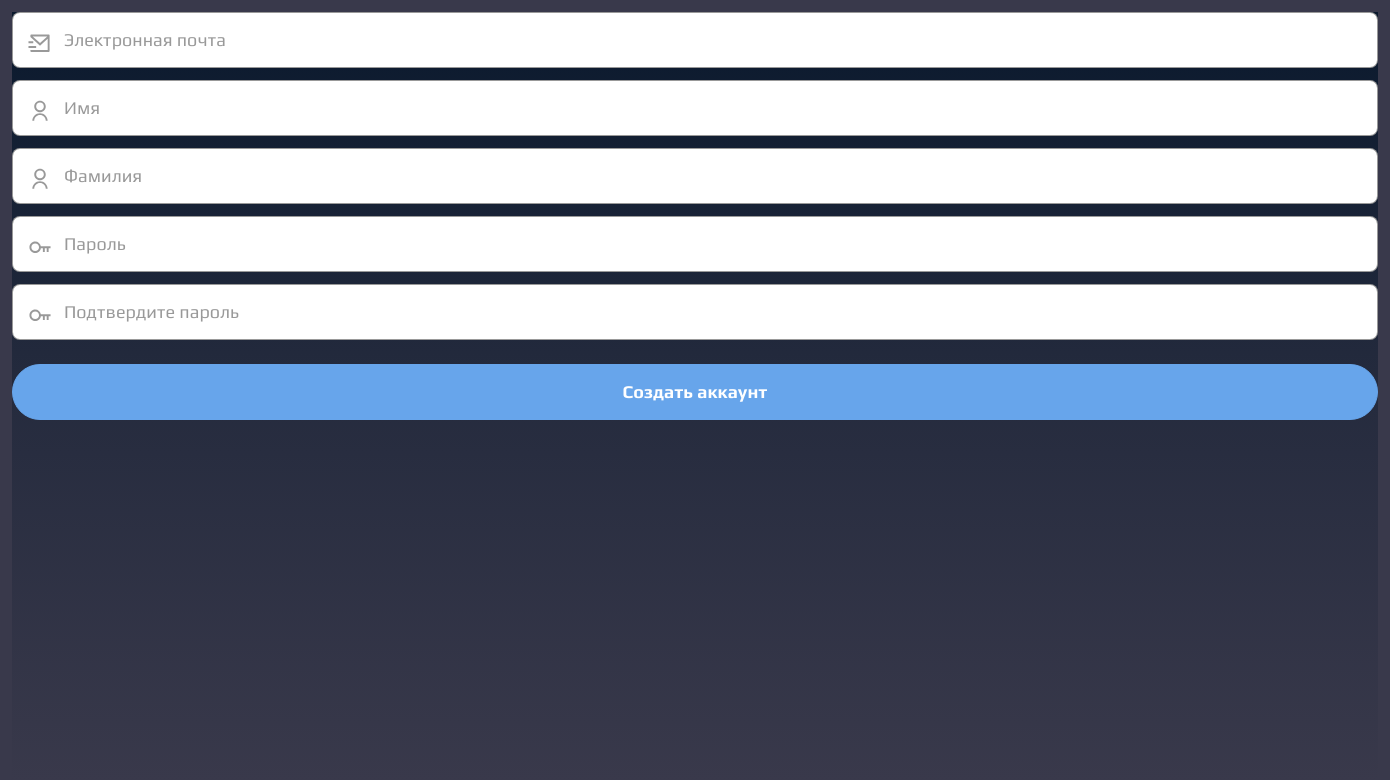
Scenario: RegisterForm › Отображение ошибки при вводе некорректного email
The width and height of the screenshot is (1390, 780).
Step 1. Type "invalid-email" into the field with placeholder "Электронная почта" → (695, 40), box [12, 12, 1378, 68]
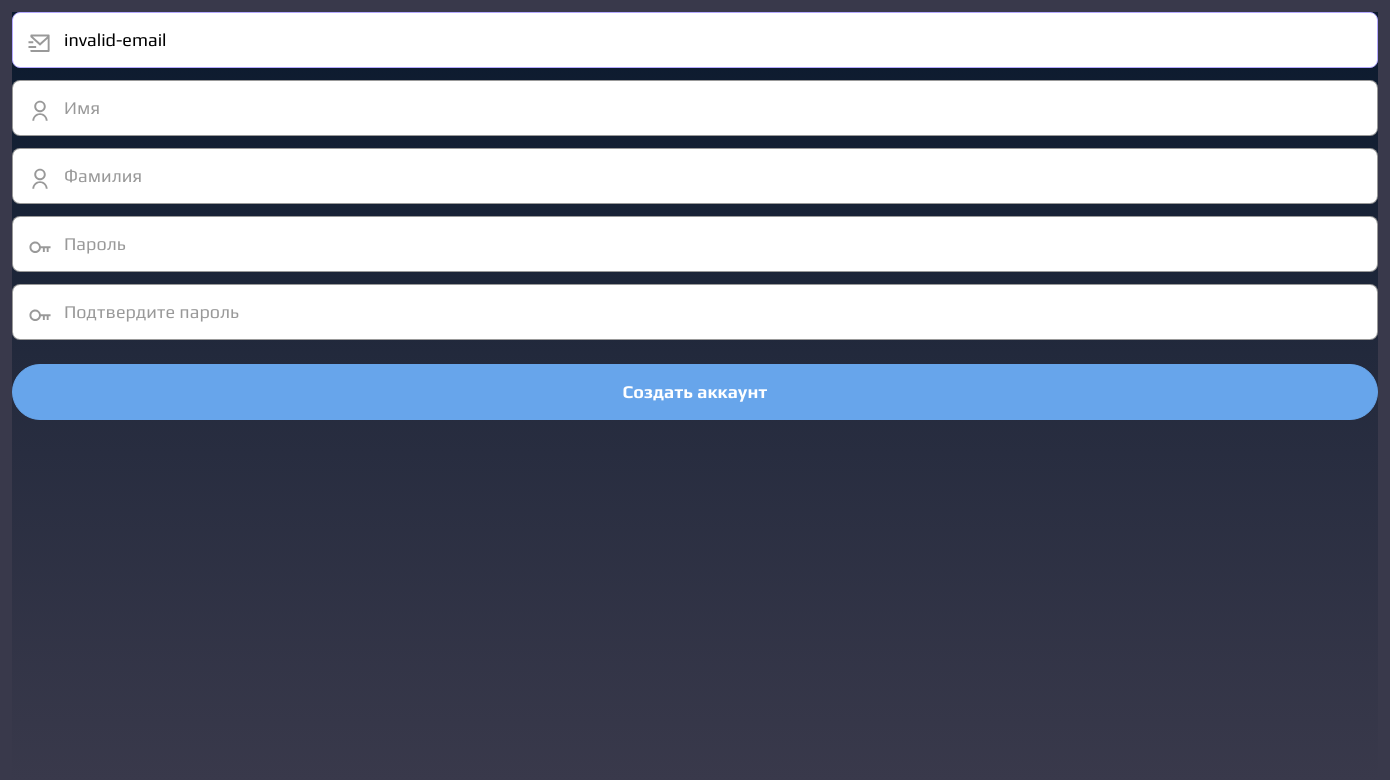
Step 2. Type "name" into the field with placeholder "Имя" → (695, 108), box [12, 80, 1378, 136]
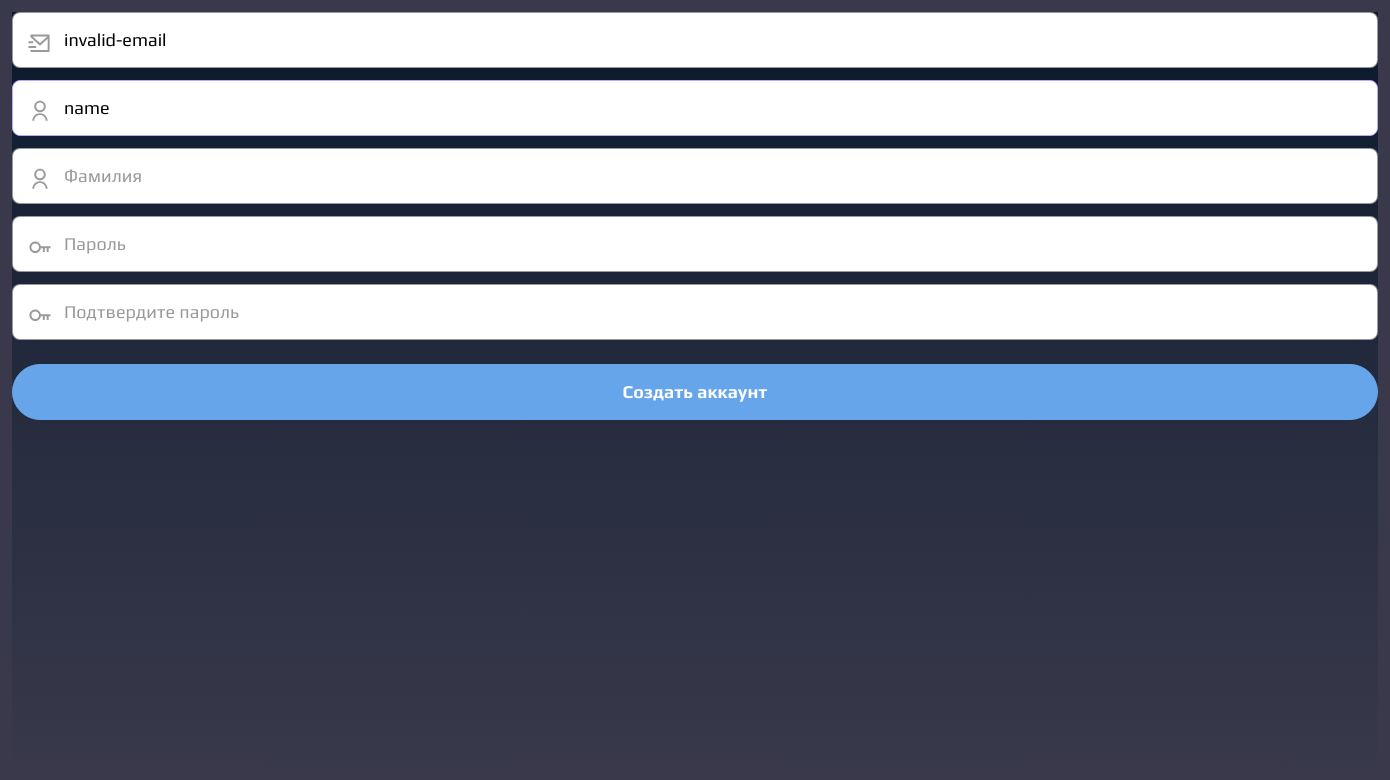
Step 3. Type "surname" into the field with placeholder "Фамилия" → (695, 176), box [12, 148, 1378, 204]
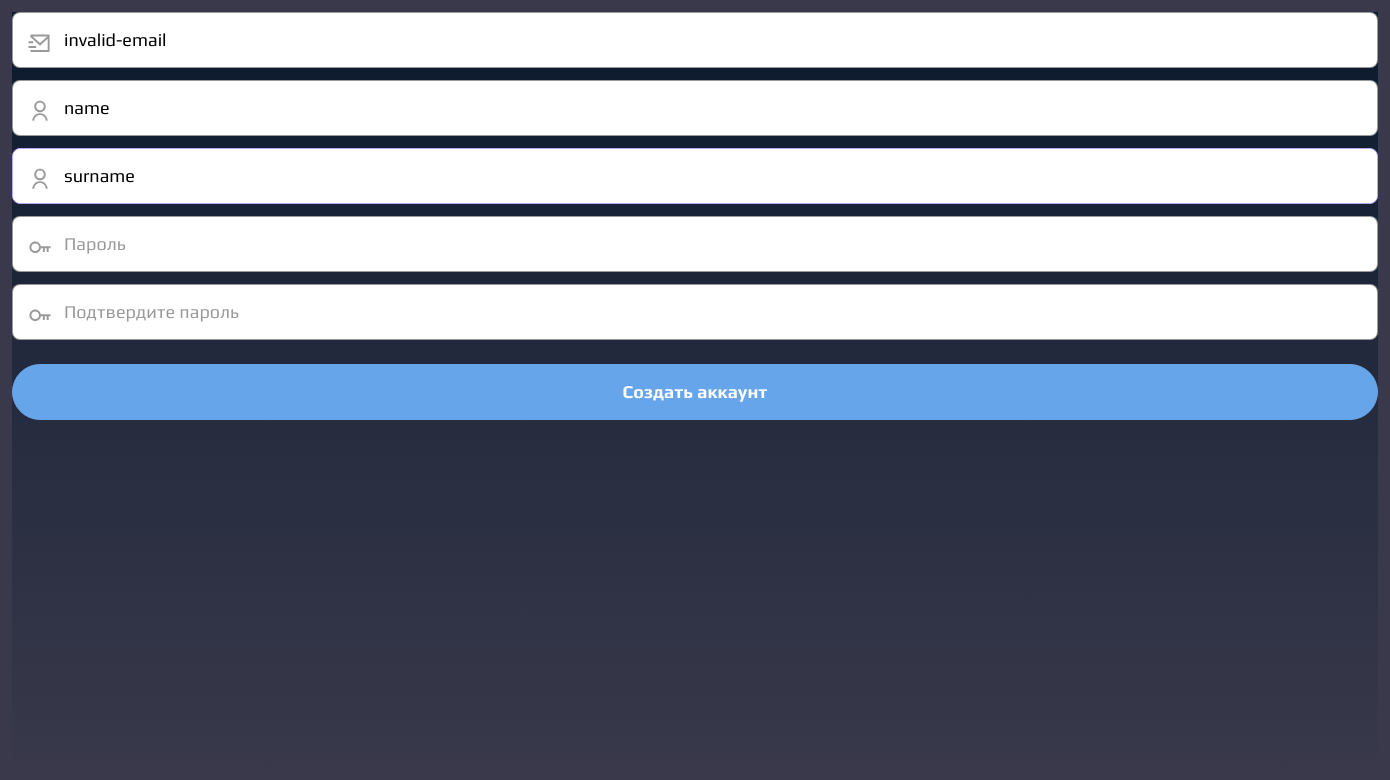
Step 4. Type "validPassword" into the password field with placeholder "Пароль" → (695, 244), box [12, 216, 1378, 272]
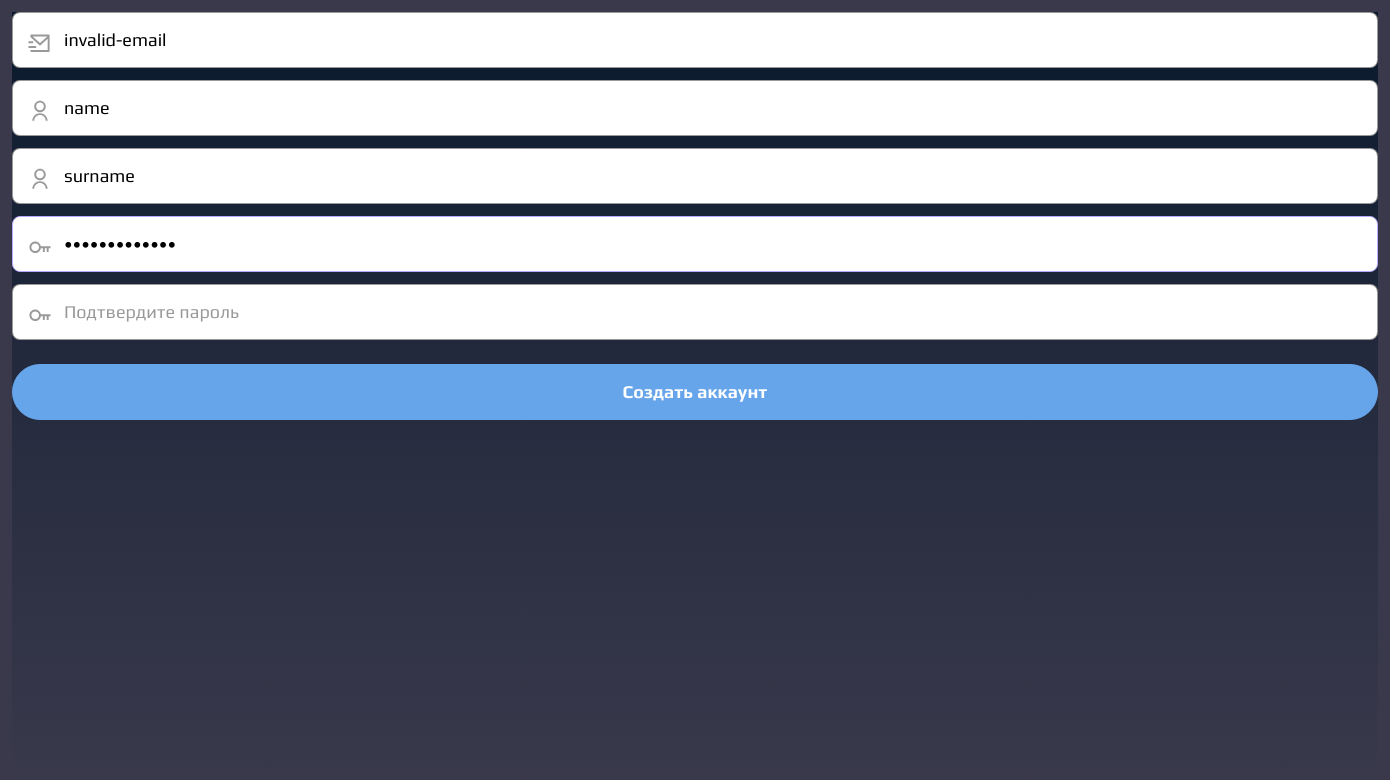
Step 5. Type "validPassword" into the password field with placeholder "Подтвердите пароль" → (695, 312), box [12, 284, 1378, 340]
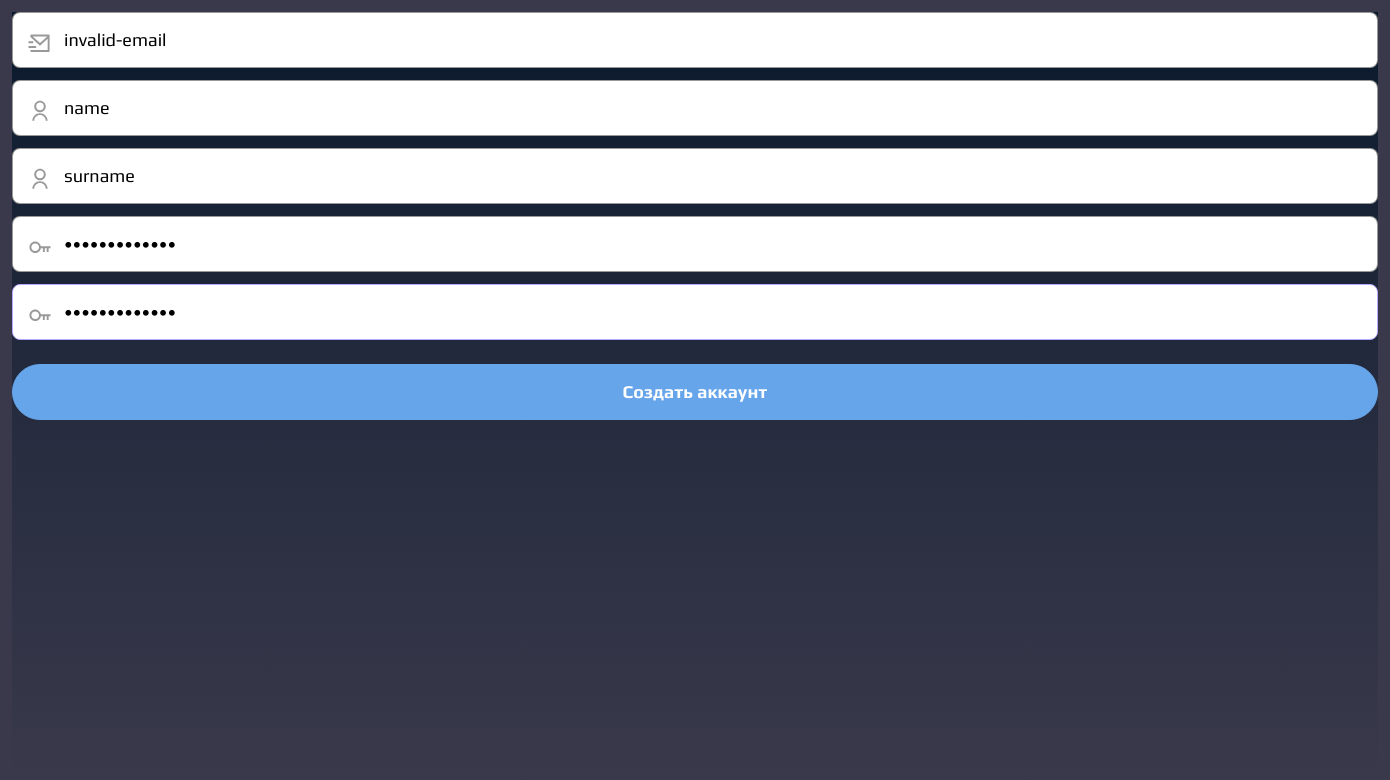
Step 6. Click the button "Создать аккаунт" → (695, 392), box [12, 364, 1378, 420]
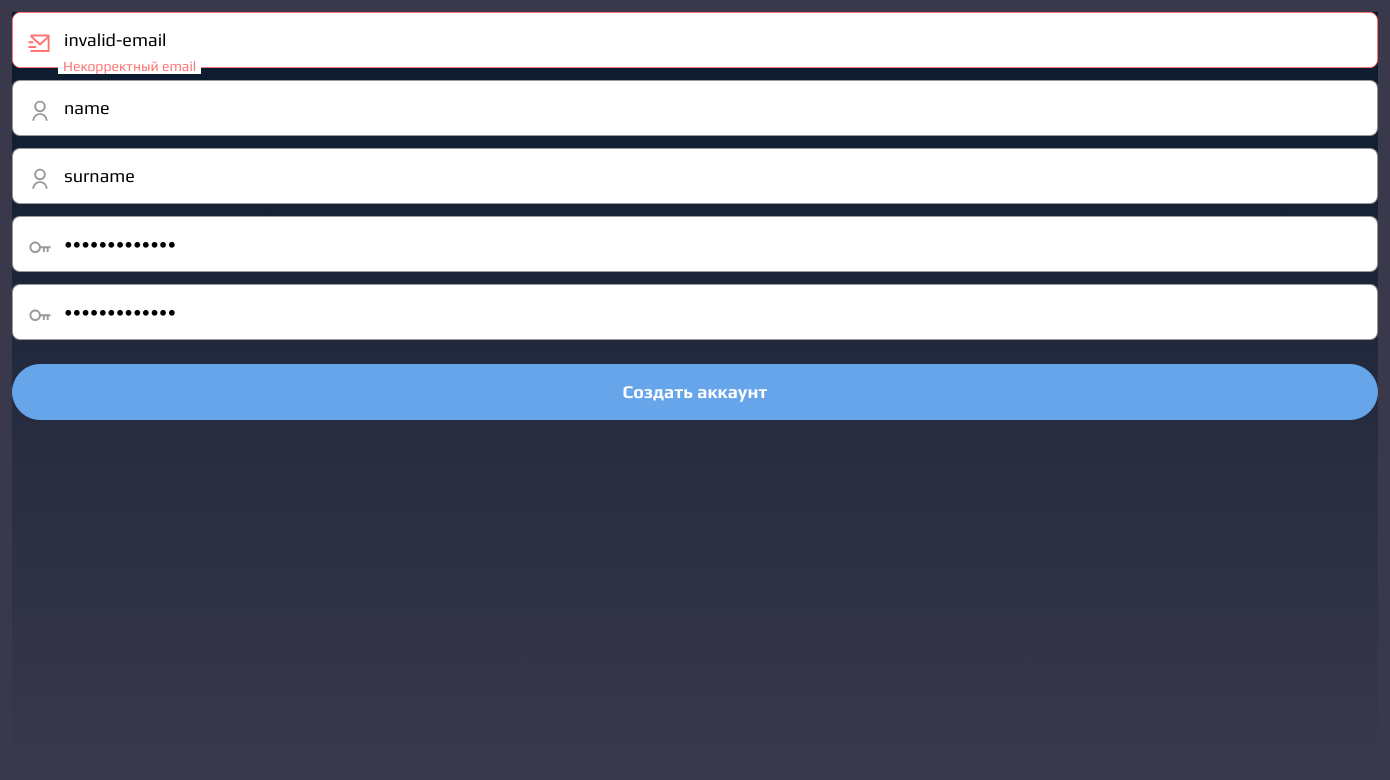
expect the text "Некорректный email" is shown: met, box [58, 58, 201, 74]
